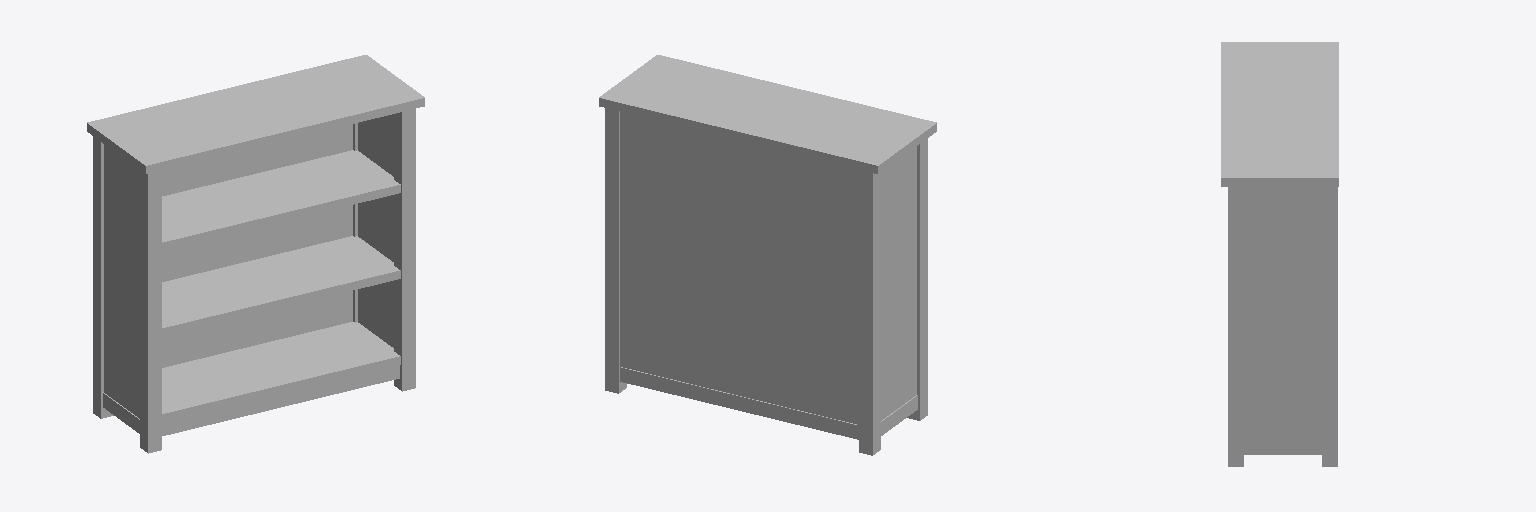
File: bookshelf_1_001.obj
3 views of the same model, side by side, from view 1: azimuth 30°, elevation 25°; view 2: azimuth 150°, elevation 25°; view 3: azimuth 270°, elevation 25° (orthographic).
Parts seen in each view (by area): view 1: bookshelf_wood; view 2: bookshelf_wood; view 3: bookshelf_wood.
Part boxes in pixels (bbox=[...]): bookshelf_wood: bbox=[87, 55, 424, 453]; bookshelf_wood: bbox=[599, 55, 936, 455]; bookshelf_wood: bbox=[1221, 42, 1338, 466].
Bounding box in the file's own units: 4.1 × 4.08 × 1.5.